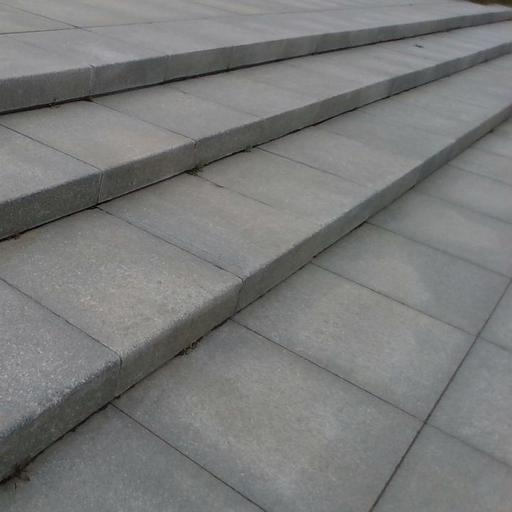stairs: (0, 2, 511, 478)
